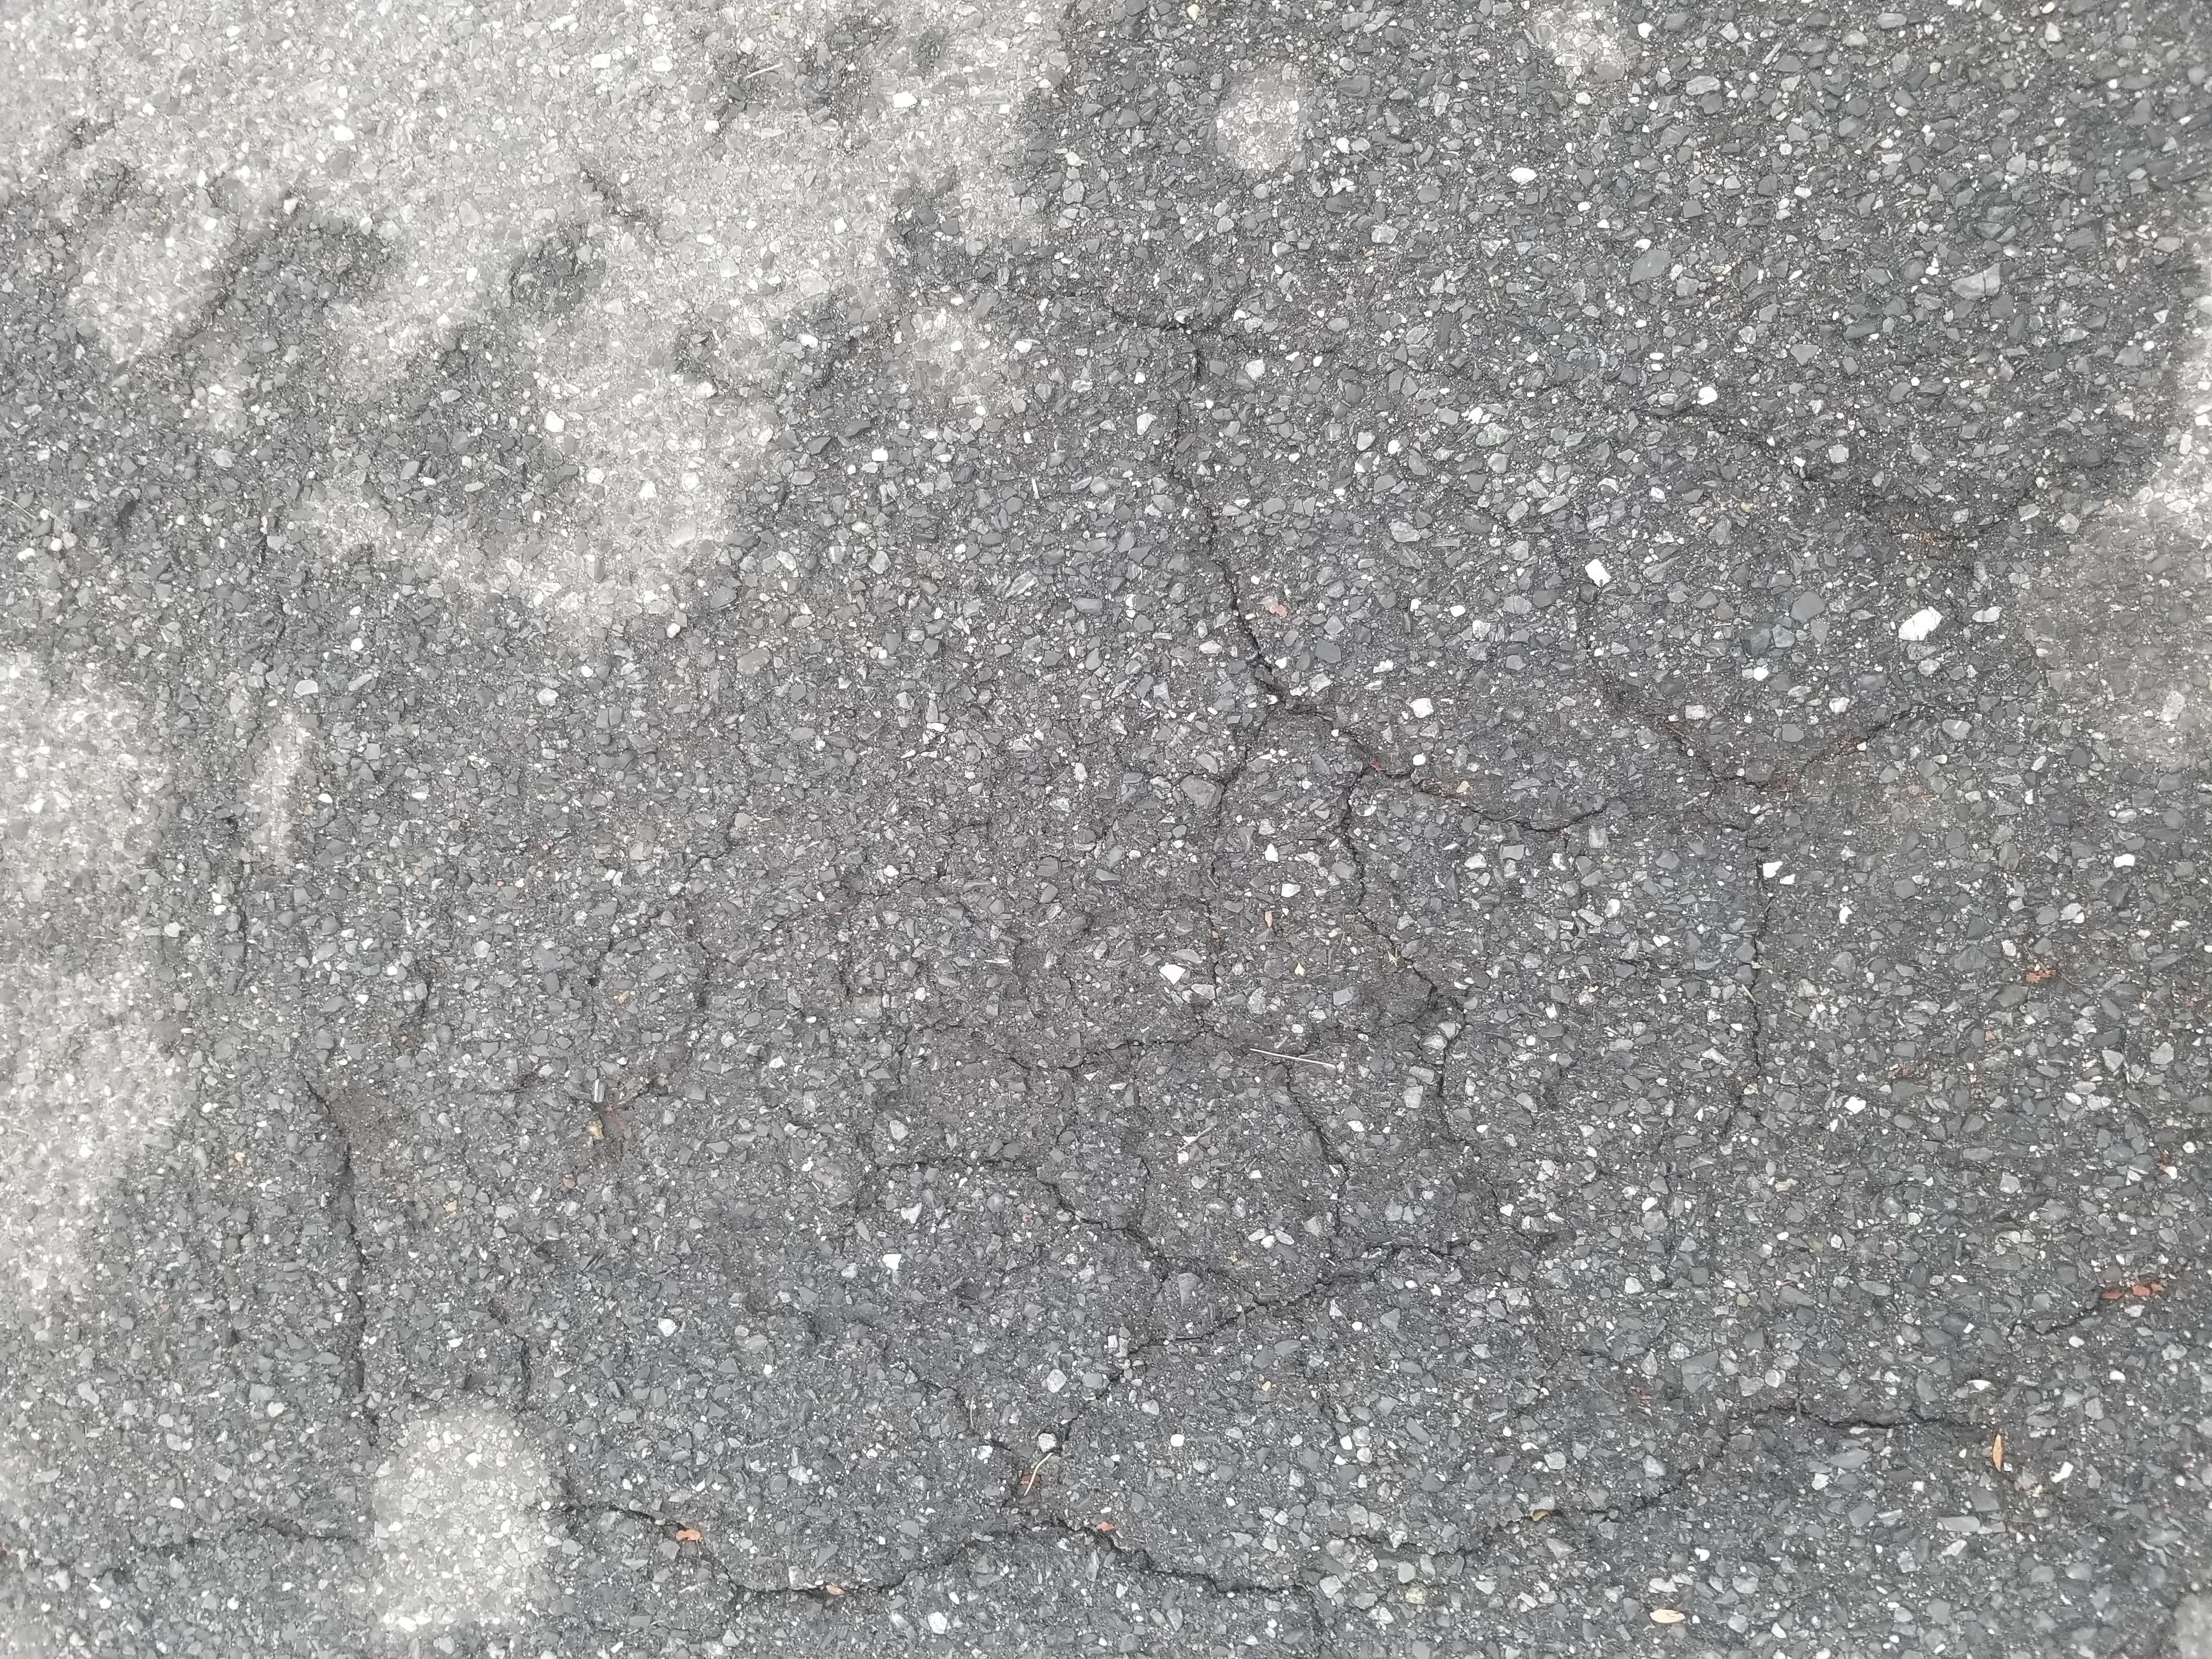alligator-crack: (49, 586, 2177, 1642), (78, 164, 1111, 575)
